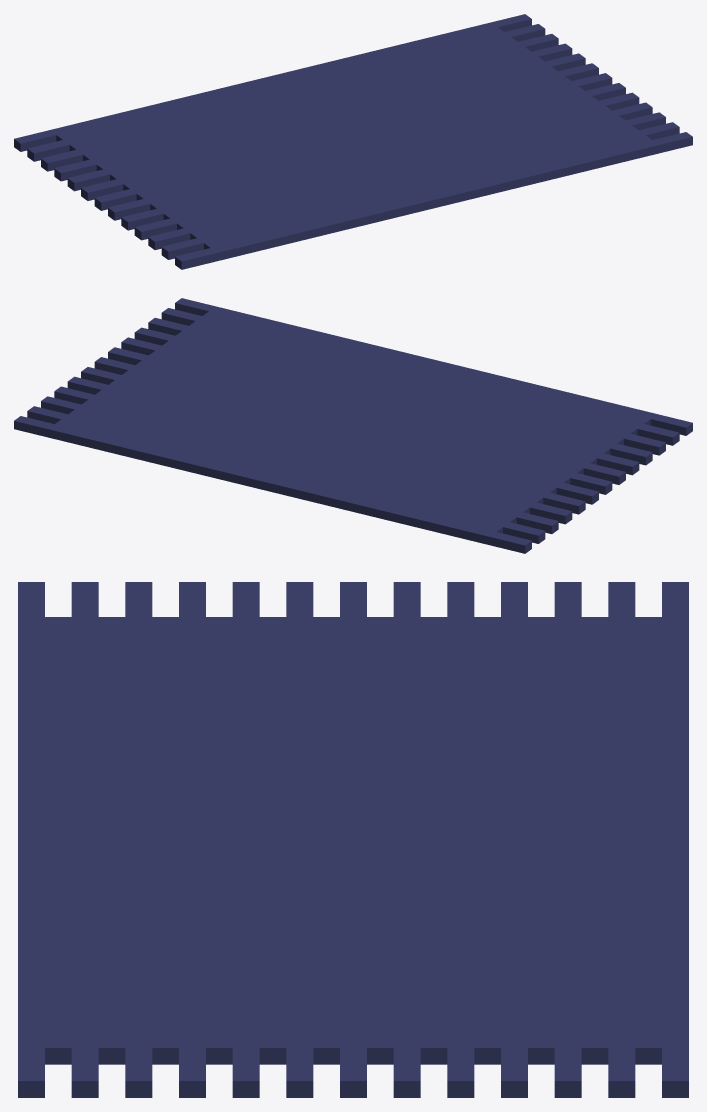
The model's file is Rug.fbx.
3 renders of one model, top to bottom at view 1: azimuth 30°, elevation 25°; view 2: azimuth 150°, elevation 25°; view 3: azimuth 270°, elevation 25°, orthographic. The views are drawn at different scales.
Parts seen in each view (by area): view 1: Rug; view 2: Rug; view 3: Rug.
Boxes of the visible parts, <box> form: Rug: <box>14,14,692,269</box>; Rug: <box>14,298,692,553</box>; Rug: <box>18,582,688,1097</box>.
Size of the model in its own units: 691 by 10.81 by 393.
